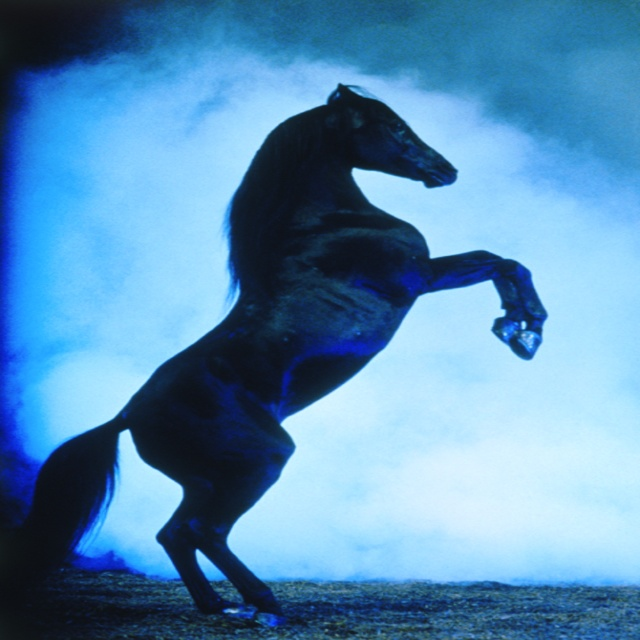Horse: (24, 84, 546, 628)
